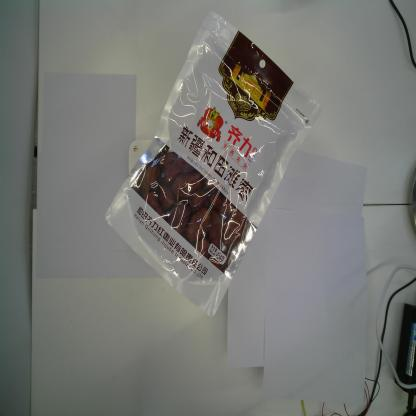Dried Food: (100, 7, 322, 323)
